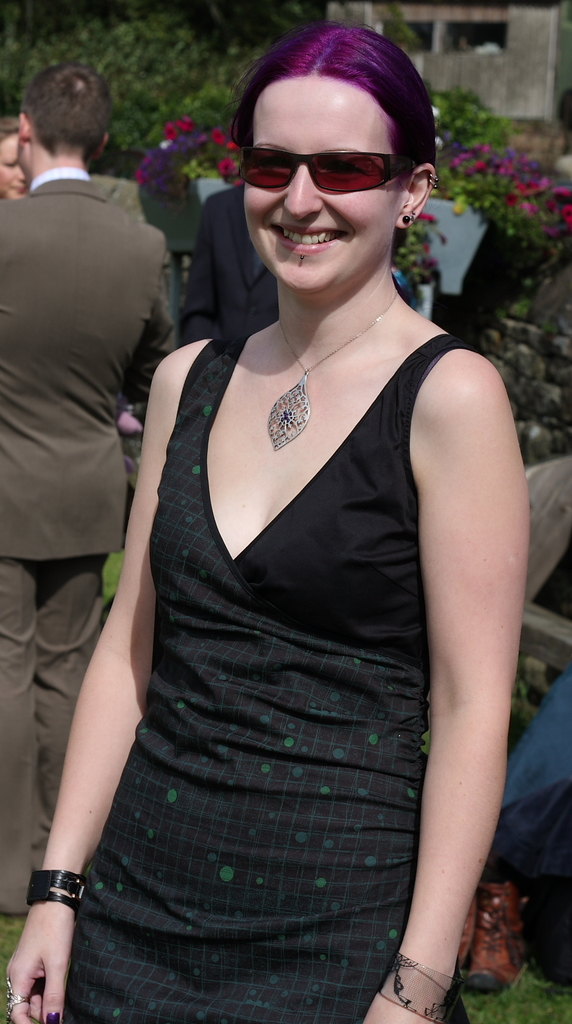Footwear: (461, 872, 521, 993)
